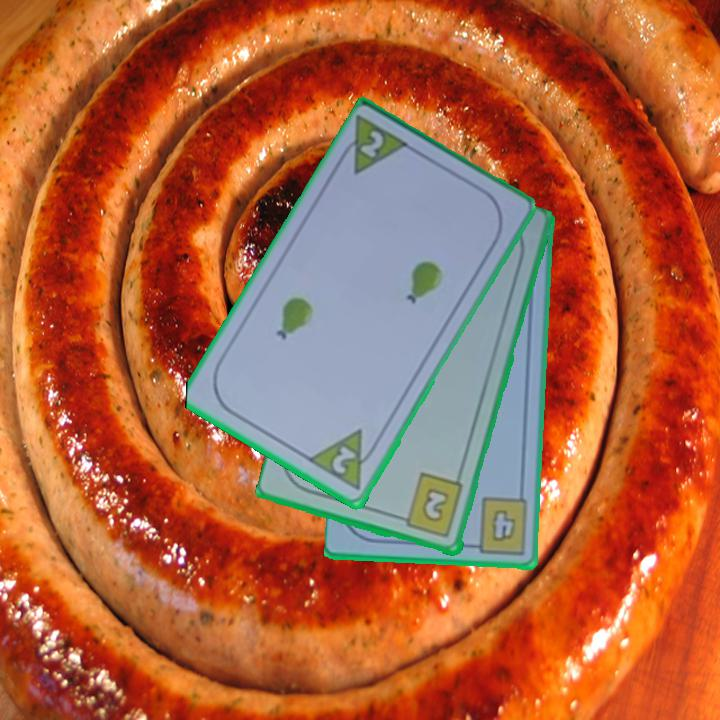2b: (394, 470, 466, 541)
2p: (304, 426, 383, 494), (356, 127, 387, 162)
4b: (465, 494, 532, 557)
